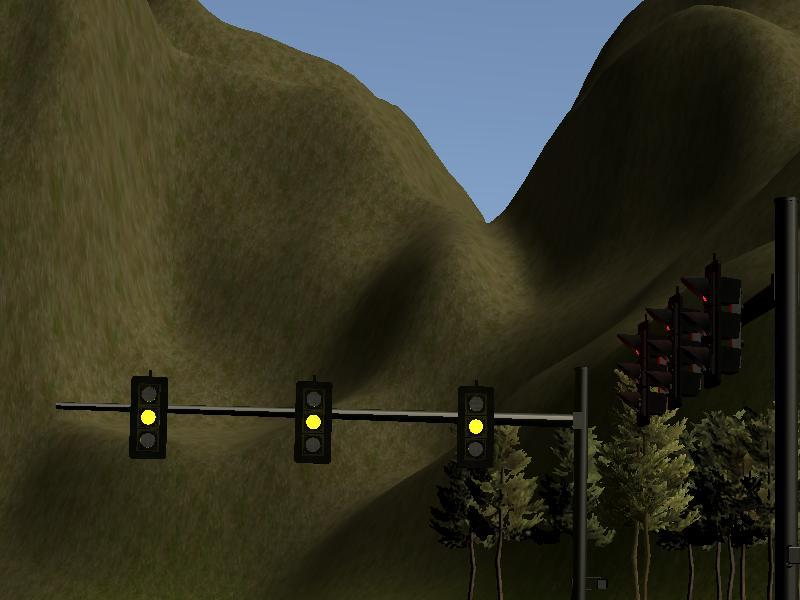Yellow: (294, 381, 331, 463), (129, 376, 166, 457), (457, 388, 494, 468)
